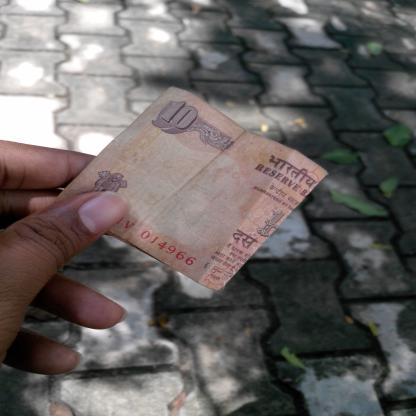Old10Front: (54, 84, 327, 291)
